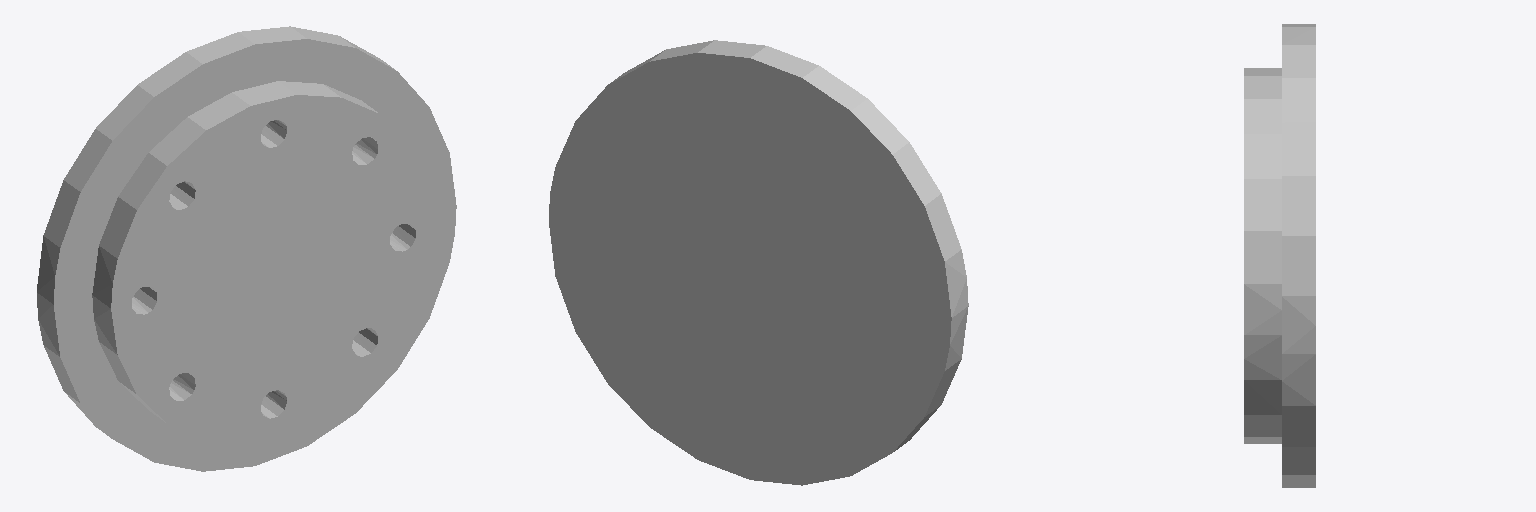
Rendered from kuka_seg_6.obj.
3 views of the same model, side by side, from view 1: azimuth 30°, elevation 25°; view 2: azimuth 150°, elevation 25°; view 3: azimuth 270°, elevation 25° (orthographic).
Parts seen in each view (by area): view 1: Kuka_Seg_6.001; view 2: Kuka_Seg_6.001; view 3: Kuka_Seg_6.001.
Boxes of the visible parts, <box> form: Kuka_Seg_6.001: <box>37,26,456,471</box>; Kuka_Seg_6.001: <box>549,40,968,485</box>; Kuka_Seg_6.001: <box>1244,24,1315,487</box>.
Size of the model in its own units: 3.07 by 3.07 by 0.4724.